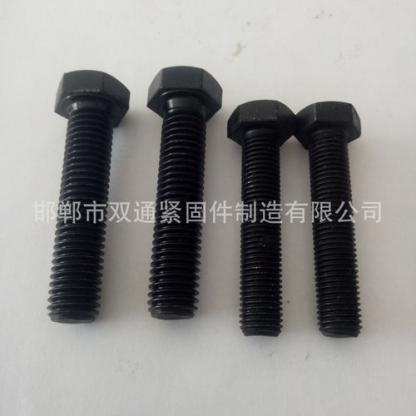FOD: (42, 66, 132, 328), (140, 64, 224, 322), (294, 99, 367, 338), (226, 98, 295, 338)
